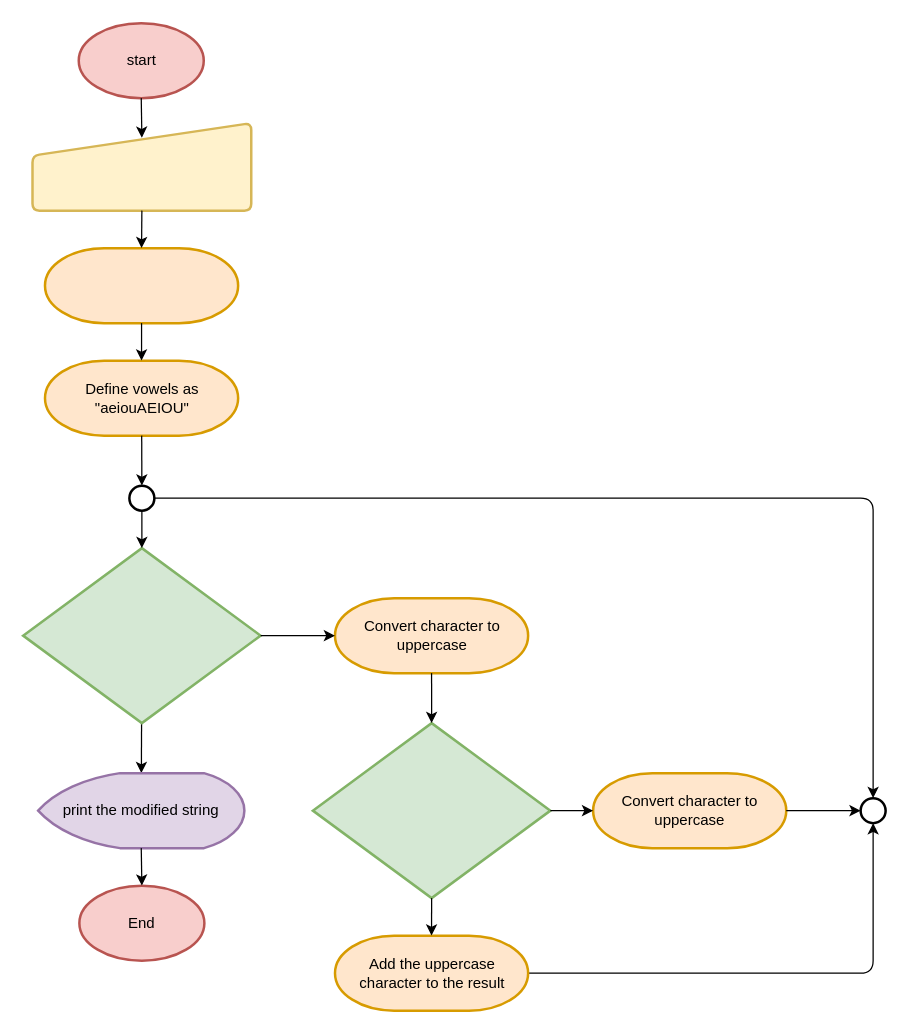
Image size: 908x1033. Some labels were removed from this diagram. The shapes that lost their labels are listed below. From the top down, each one's centre as x and y in pixels, then its label:
At (x=141, y=166): "Read input string froms the user".
At (x=141, y=285): "Initialize an empty string for the result".
At (x=141, y=635): "More characters in string ?".
At (x=431, y=810): "Is cahracter a vowel?".
